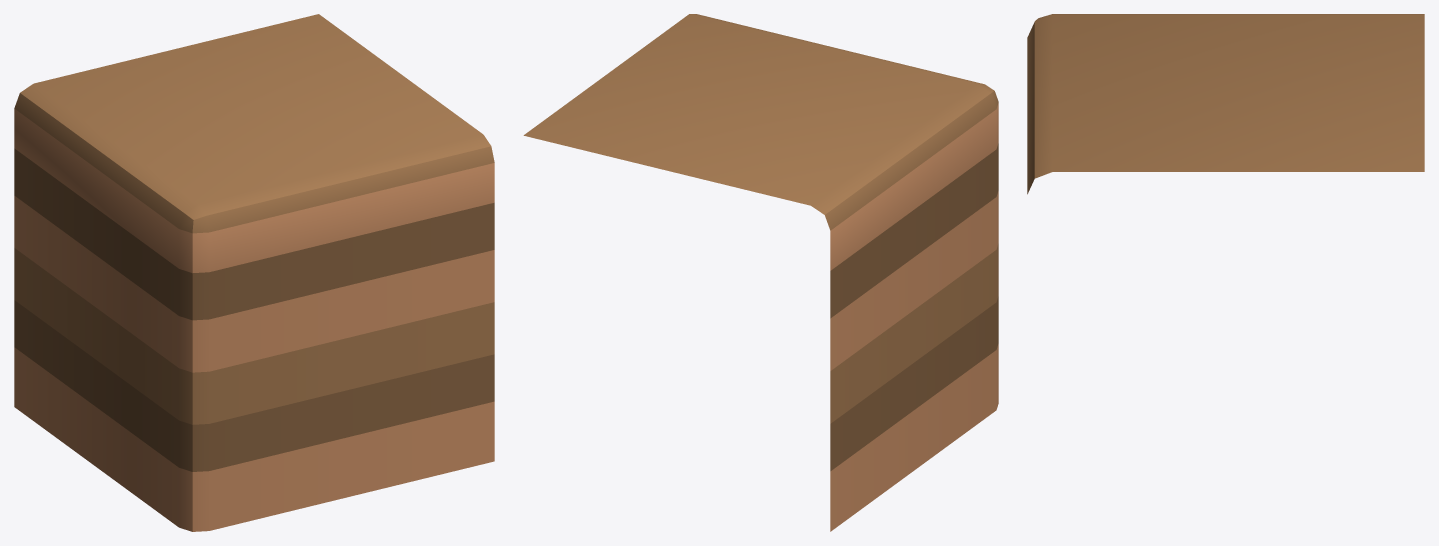
The model's file is cube_dirt_corner_tall.glb.
3 renders of one model, left to right at view 1: azimuth 30°, elevation 25°; view 2: azimuth 150°, elevation 25°; view 3: azimuth 270°, elevation 25°, orthographic. The views are drawn at different scales.
Parts seen in each view (by area): view 1: Cube_Dirt_Corner_Tall; view 2: Cube_Dirt_Corner_Tall; view 3: Cube_Dirt_Corner_Tall.
Boxes of the visible parts, bbox=[...] form: Cube_Dirt_Corner_Tall: bbox=[14, 14, 494, 531]; Cube_Dirt_Corner_Tall: bbox=[523, 14, 998, 531]; Cube_Dirt_Corner_Tall: bbox=[1027, 14, 1424, 194].
Bounding box in the file's own units: 2 × 2 × 2.
